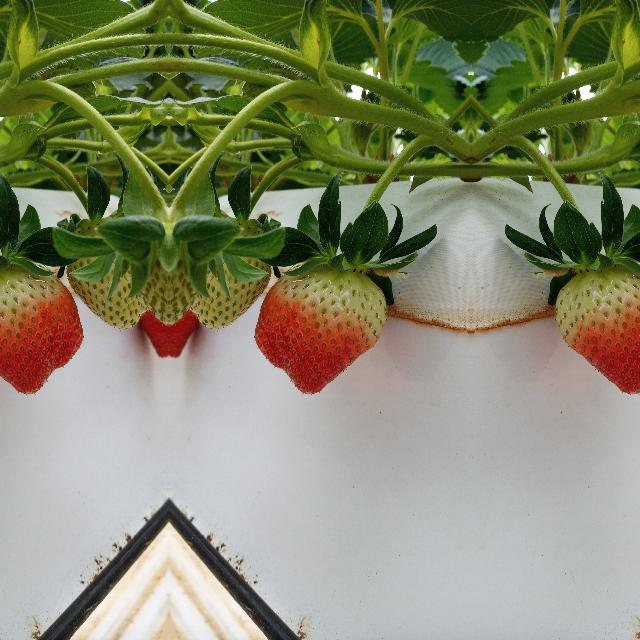Health_75: (253, 260, 387, 396), (554, 260, 640, 395), (0, 260, 83, 395)
